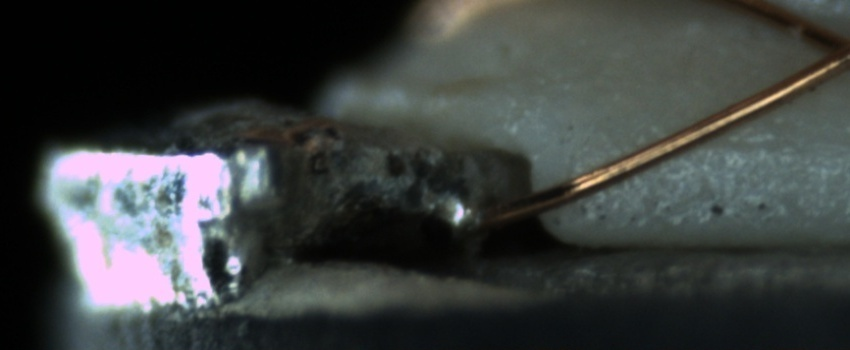CL: (797, 10, 850, 85)
DL: (679, 115, 849, 174)
